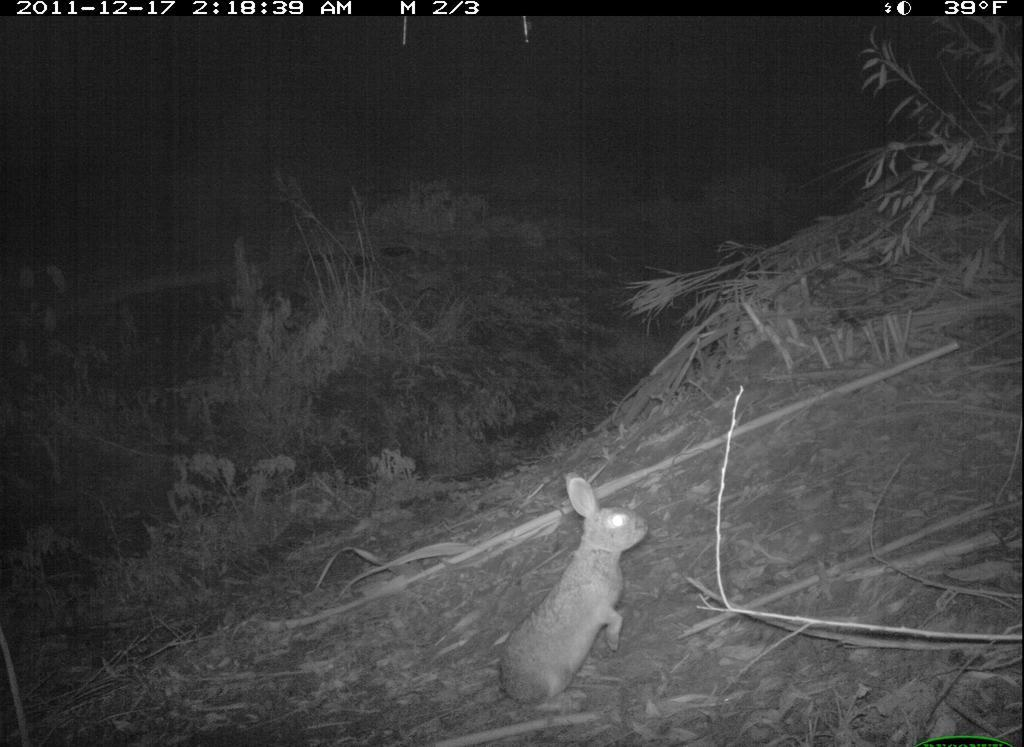rabbit: (487, 469, 656, 713)
